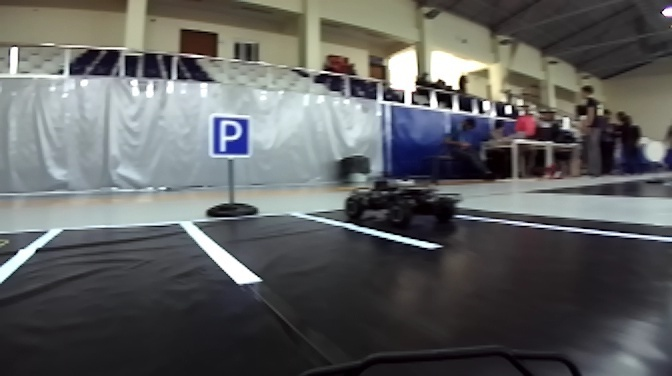park: (209, 112, 255, 161)
